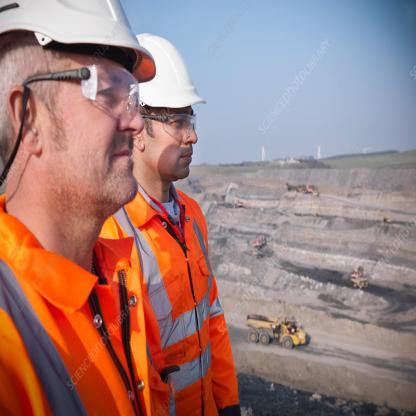dump_truck: (242, 308, 310, 353)
person: (2, 3, 152, 415), (132, 8, 242, 416)
